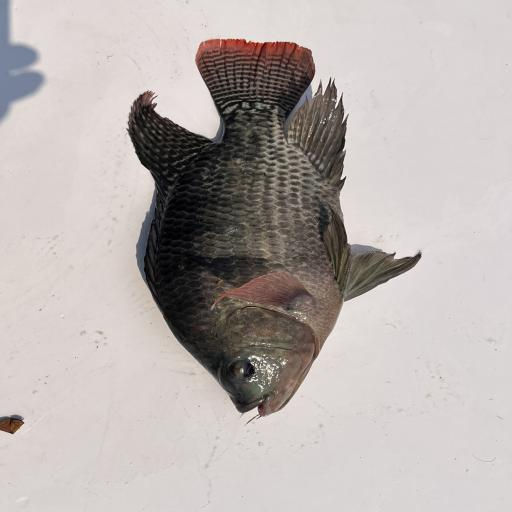Tilapia: (127, 38, 422, 426)
